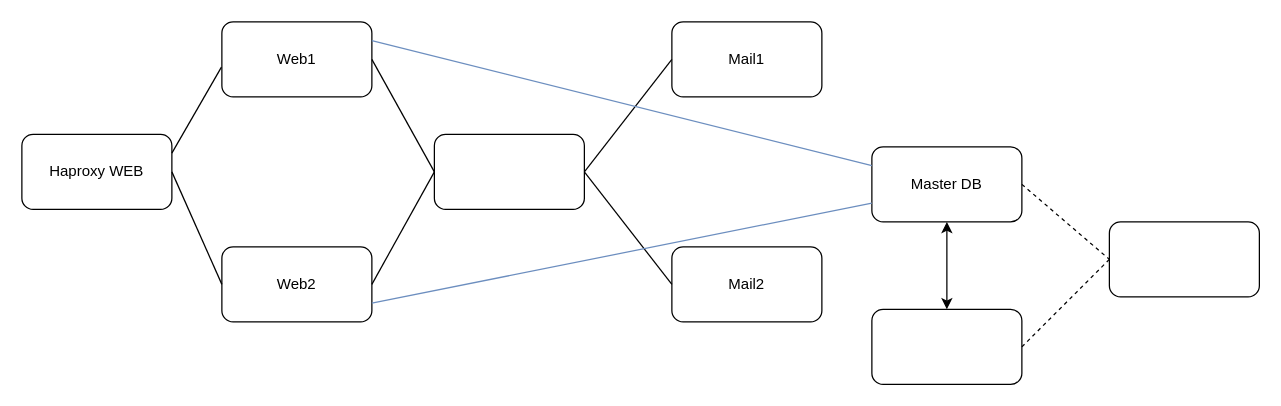
This 1281x406 diagram has some shape labels left out. Each missing label, with the centre of its shape:
BD config: pixel 1183 259
Haproxy Mail: pixel 508 171
Slave DB: pixel 946 346
